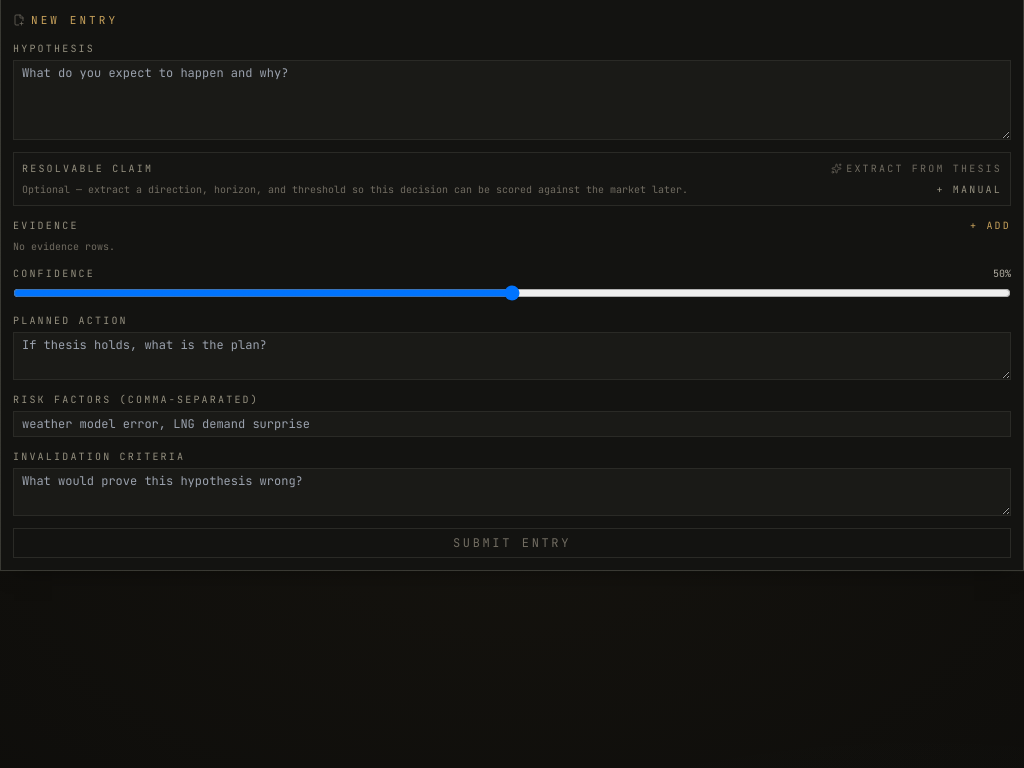
Test case: NewEntryForm › '+ Manual' reveals editable direction / horizon / threshold fields
The image size is (1024, 768).
Click the button "+ Manual": (969, 189) x1=936 y1=182 x2=1002 y2=196
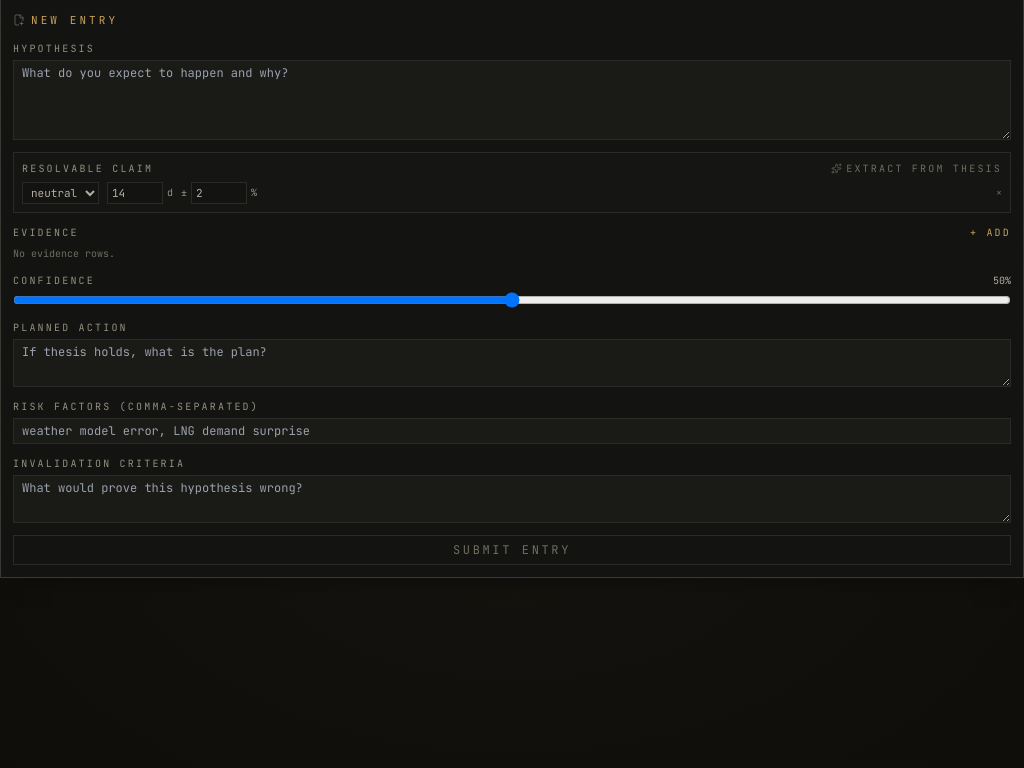
Expected: the dropdown named "Predicted direction" is shown, x1=22 y1=182 x2=99 y2=204
Expected: the number field named "Threshold percent" is shown, x1=191 y1=182 x2=247 y2=204
Expected: the number field named "Horizon in days" holds "14", x1=107 y1=182 x2=163 y2=204
